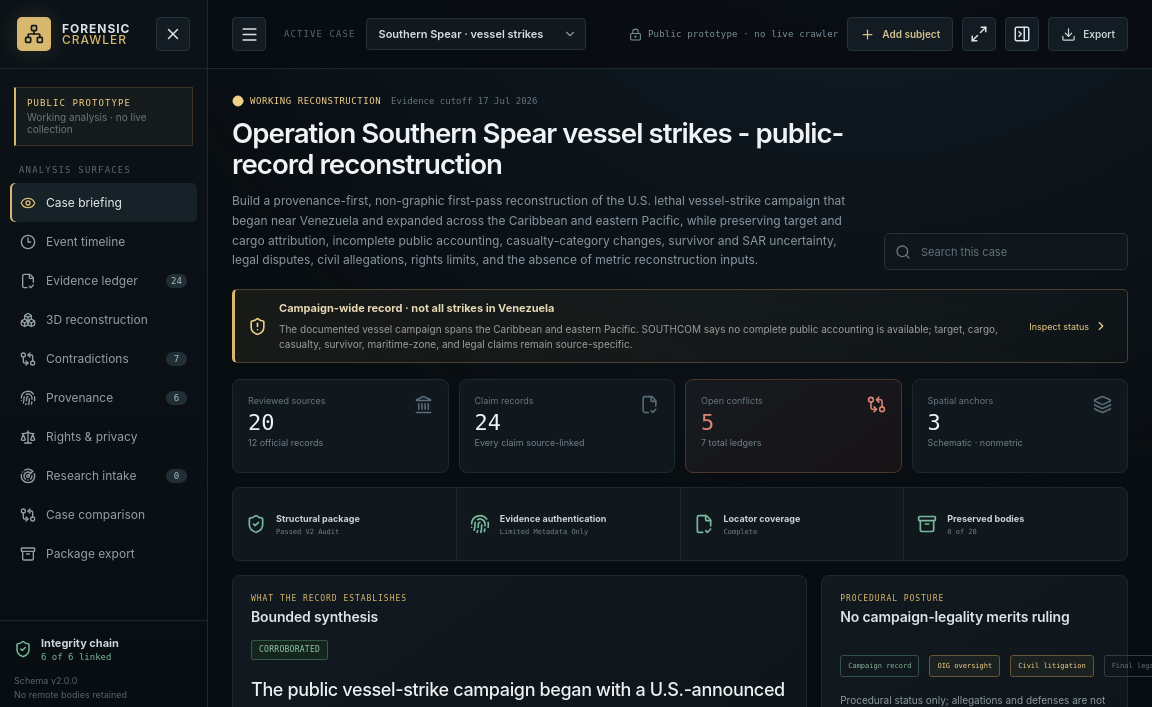
local review interface › registers a local intake and prevents a duplicate existing case
This screenshot has width=1152, height=707.
Click the button "Add subject". click: (900, 34)
box: [847,17,953,51]
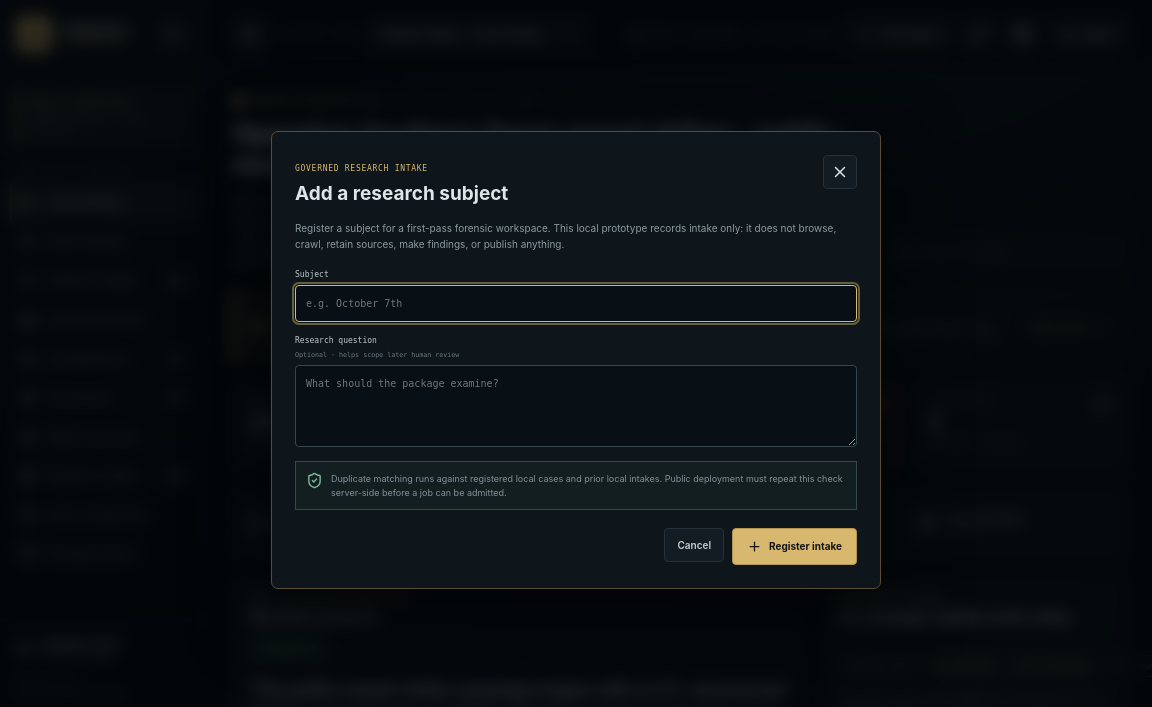
Type "October 7th" into the field labelled "Subject". click: (576, 304)
box: [295,286,857,322]
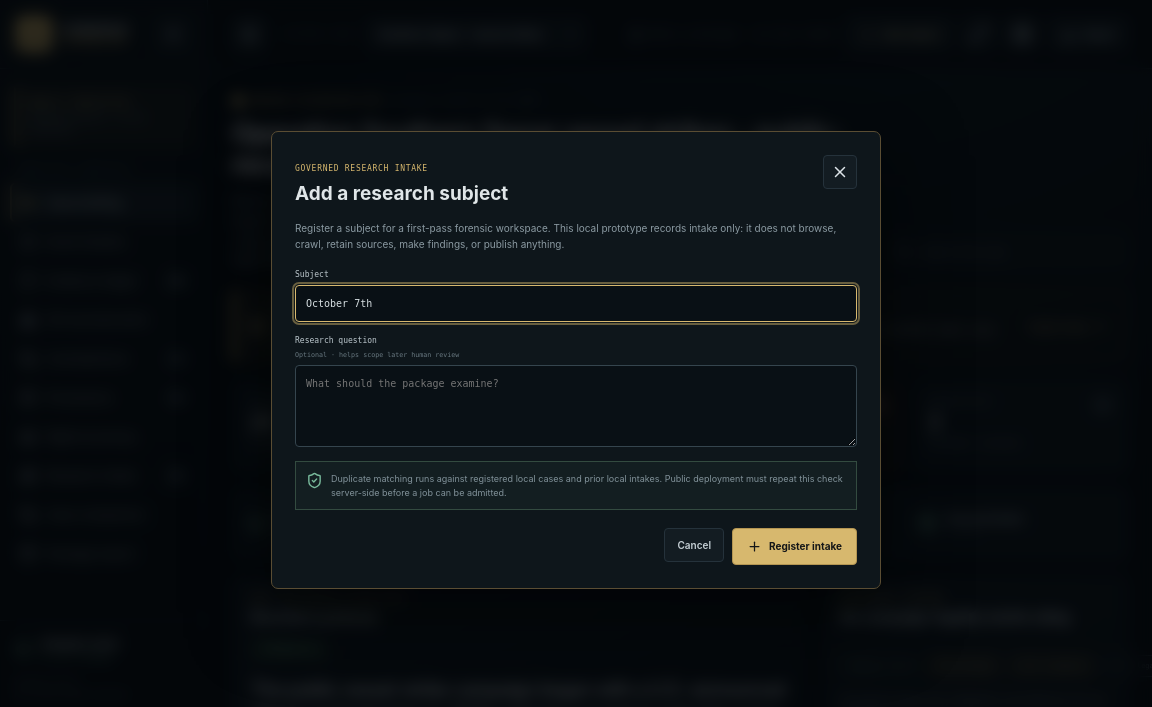
Click the button "Register intake". click: (794, 546)
box: [732,528,857,564]
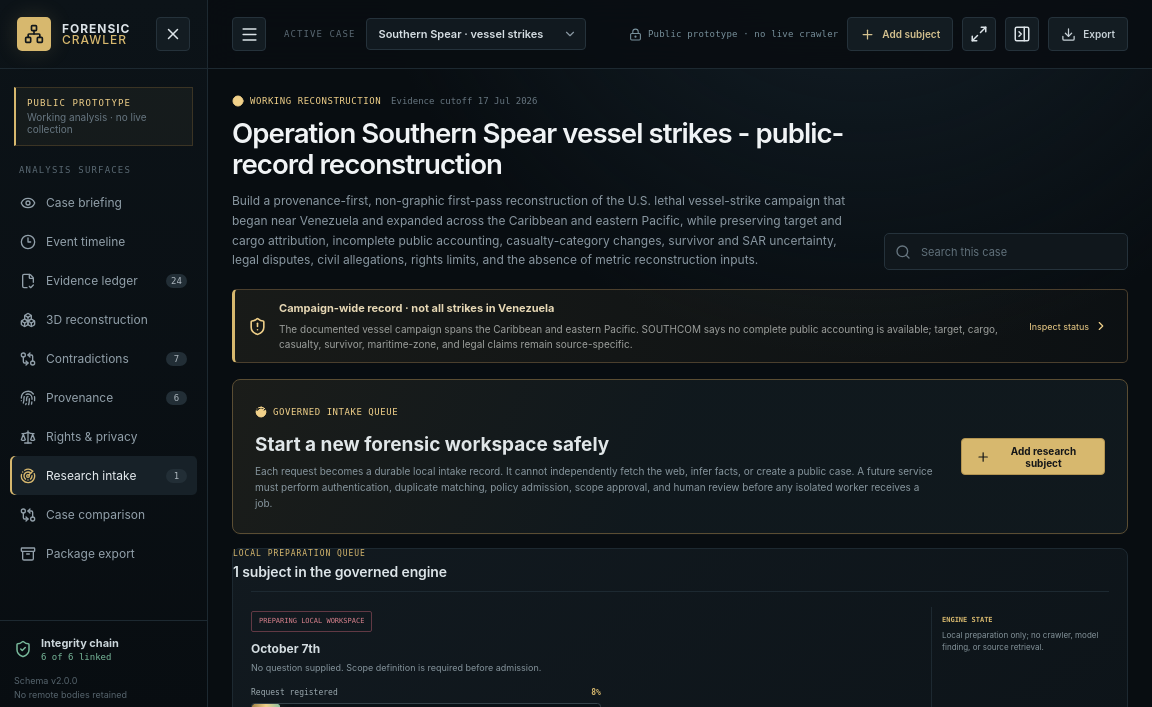
Result: the heading "1 subject in the governed engine" is shown at [233,563,447,580]
Result: the heading "October 7th" is shown at [251,641,320,656]
Click the button "Add research subject". click: (1033, 457)
box: [961,438,1105,475]
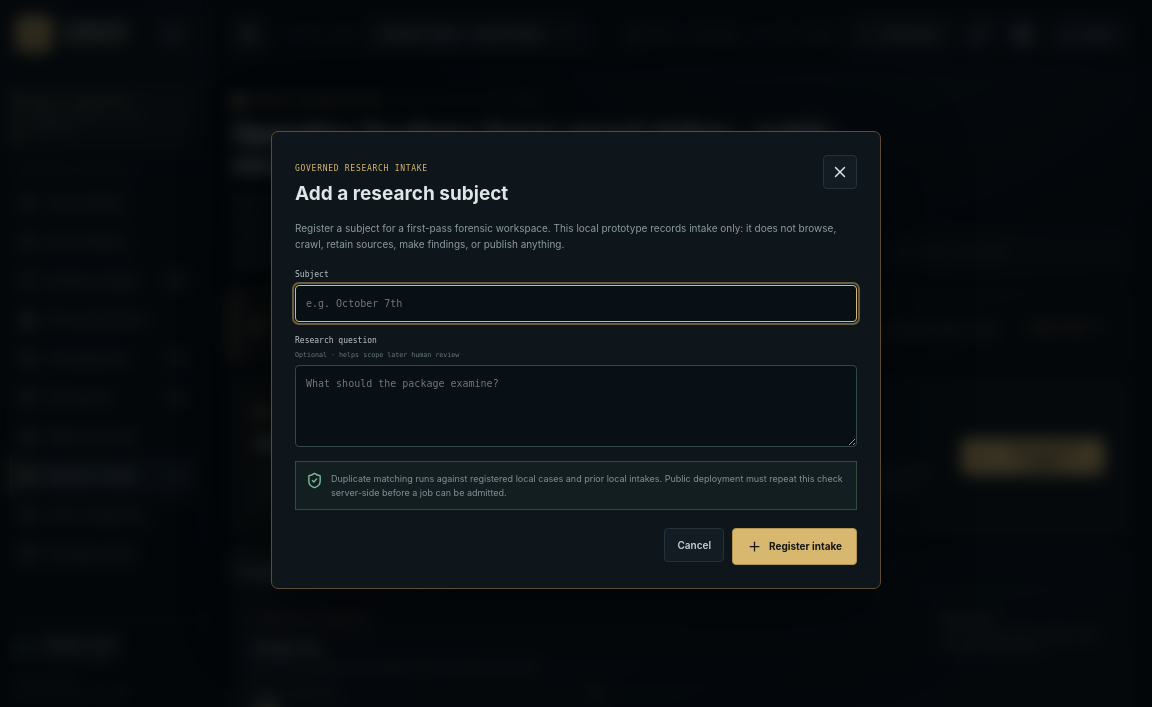
Type "Venezuela boat bombings" into the field labelled "Subject". click: (576, 304)
box: [295,286,857,322]
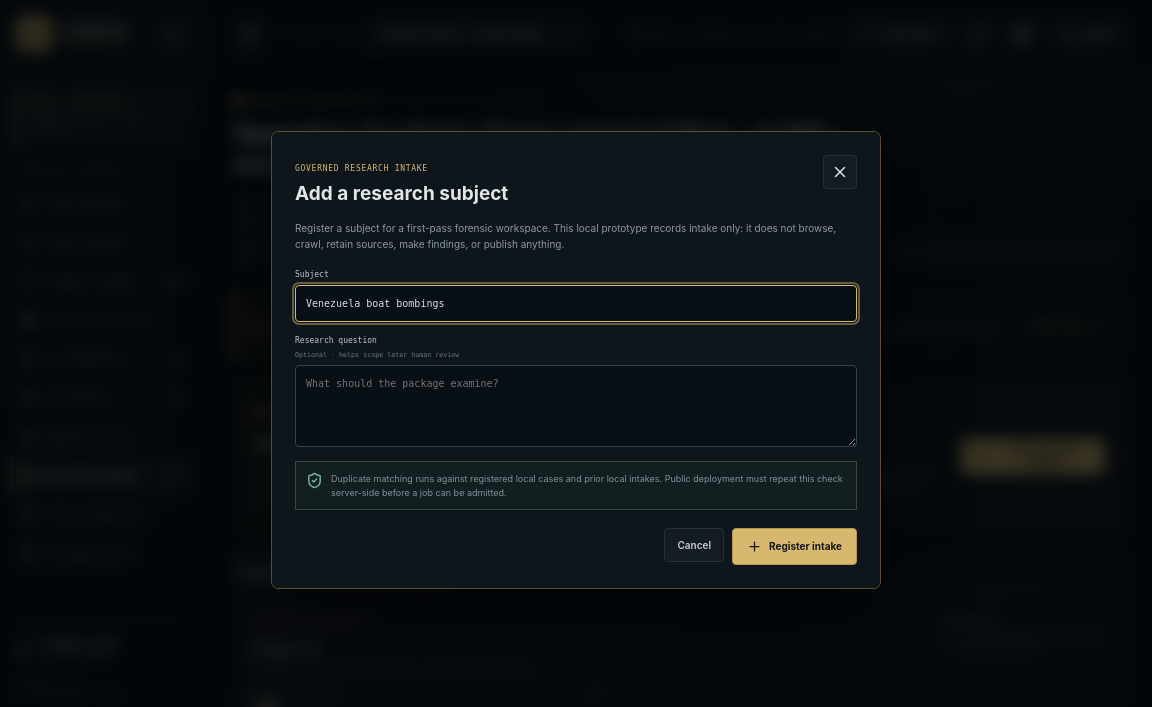
Click the button "Register intake". click: (794, 546)
box: [732,528,857,564]
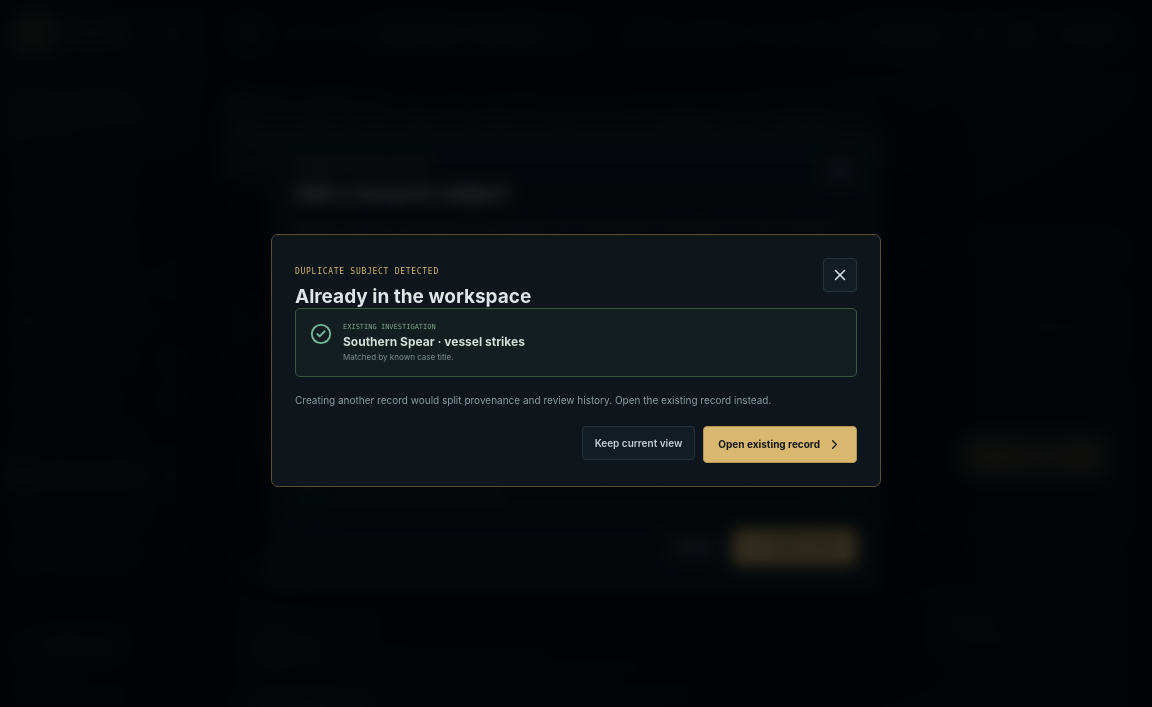
Result: the heading "Already in the workspace" is shown at [295,284,531,308]
Result: the text "Southern Spear · vessel strikes" is shown at [343,334,525,348]
